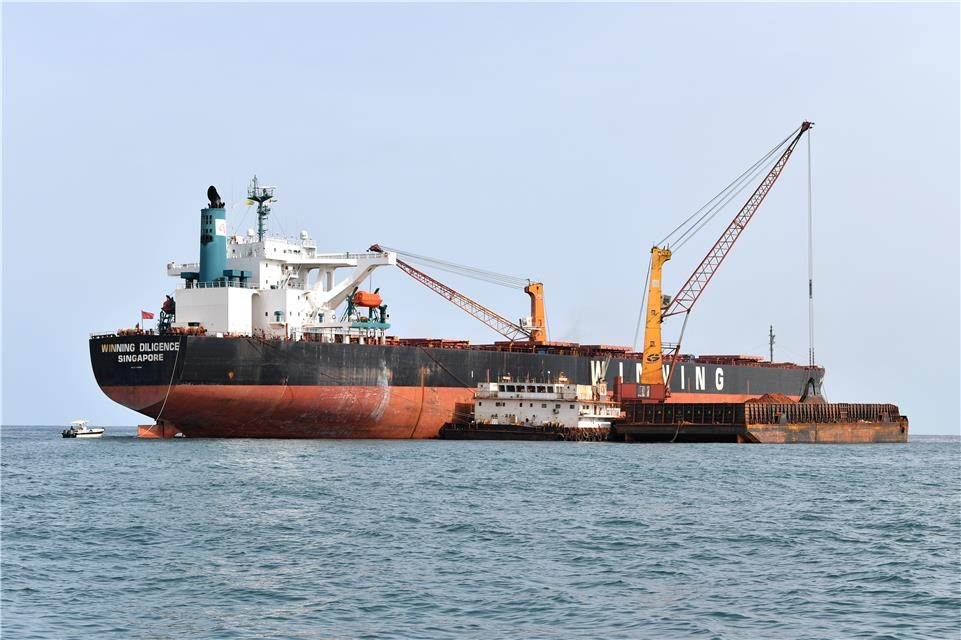Cargoship: (74, 179, 878, 431), (437, 345, 918, 459)
otherboat: (54, 416, 110, 442)
